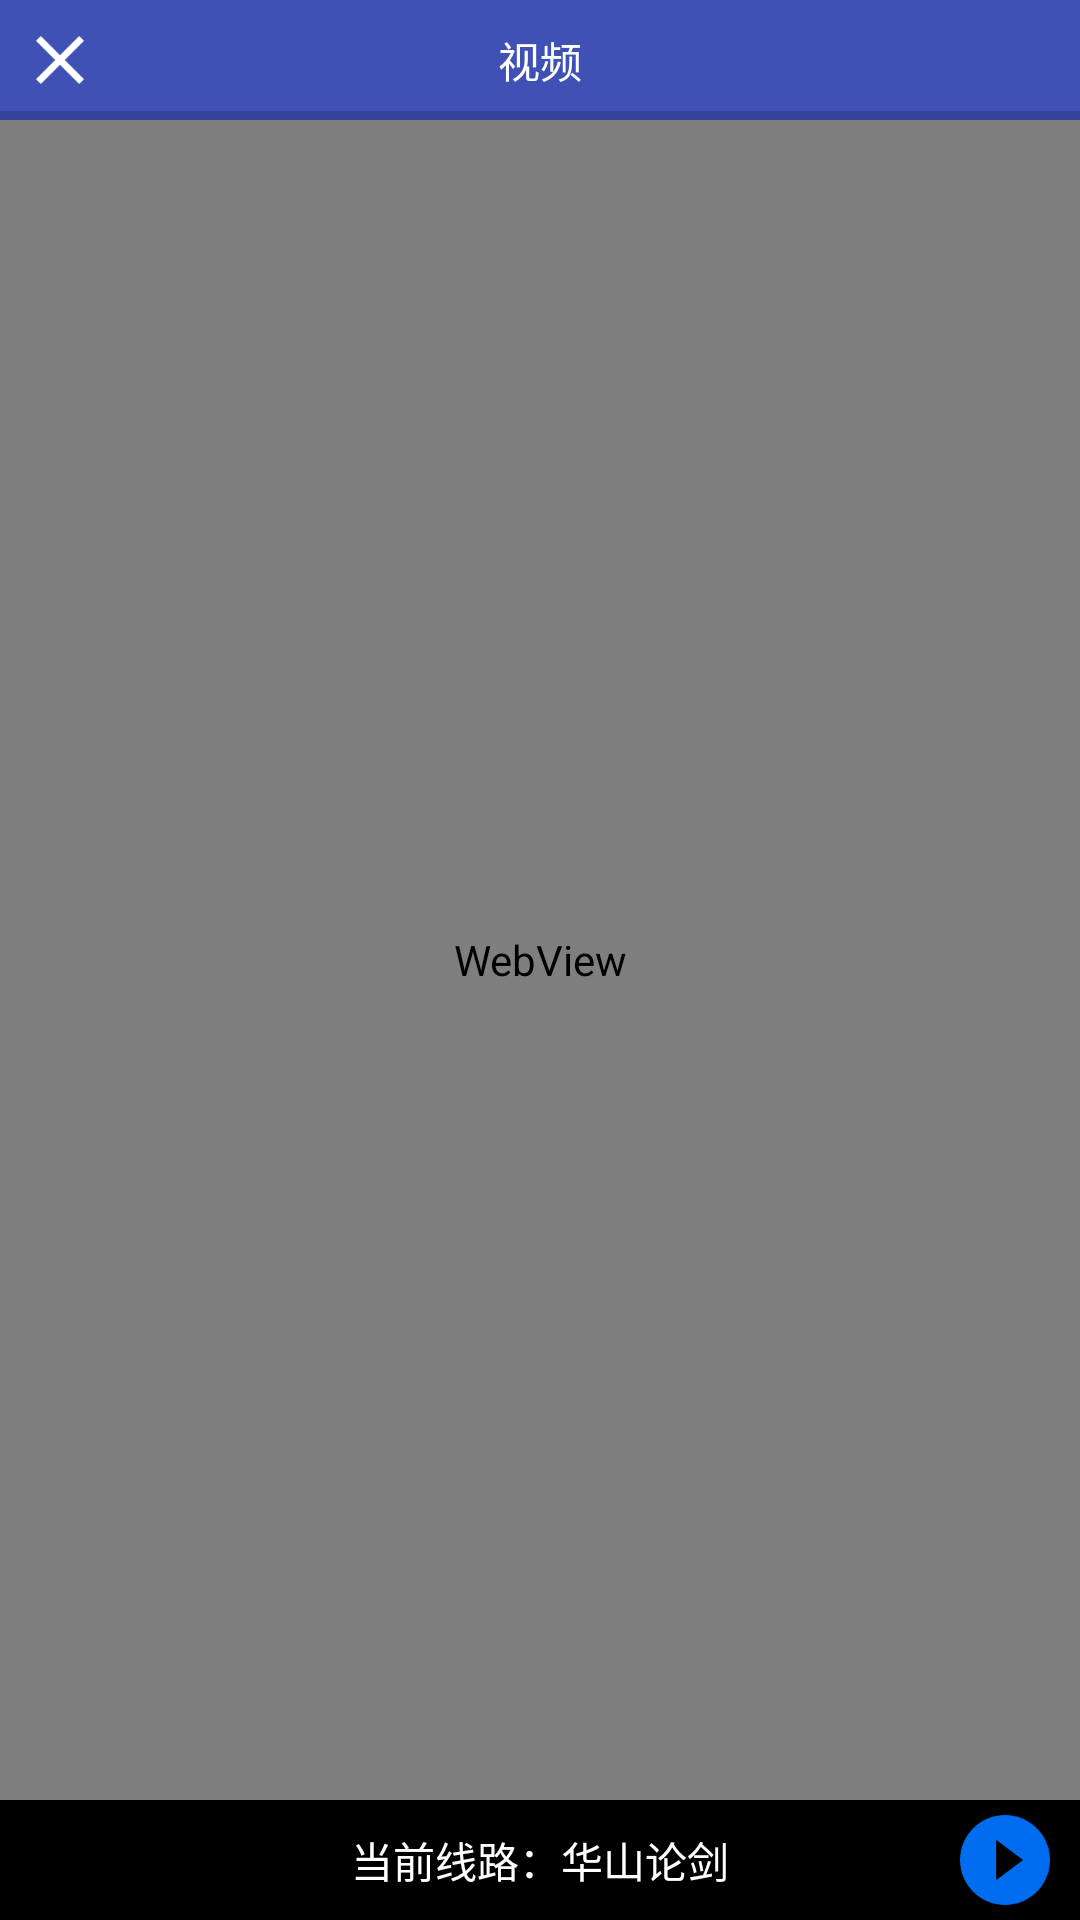

Where to tap for icons on this 1080*1920 app screen, as (x=x, y=y):
close: (x=60, y=60)
play: (x=1005, y=1860)
